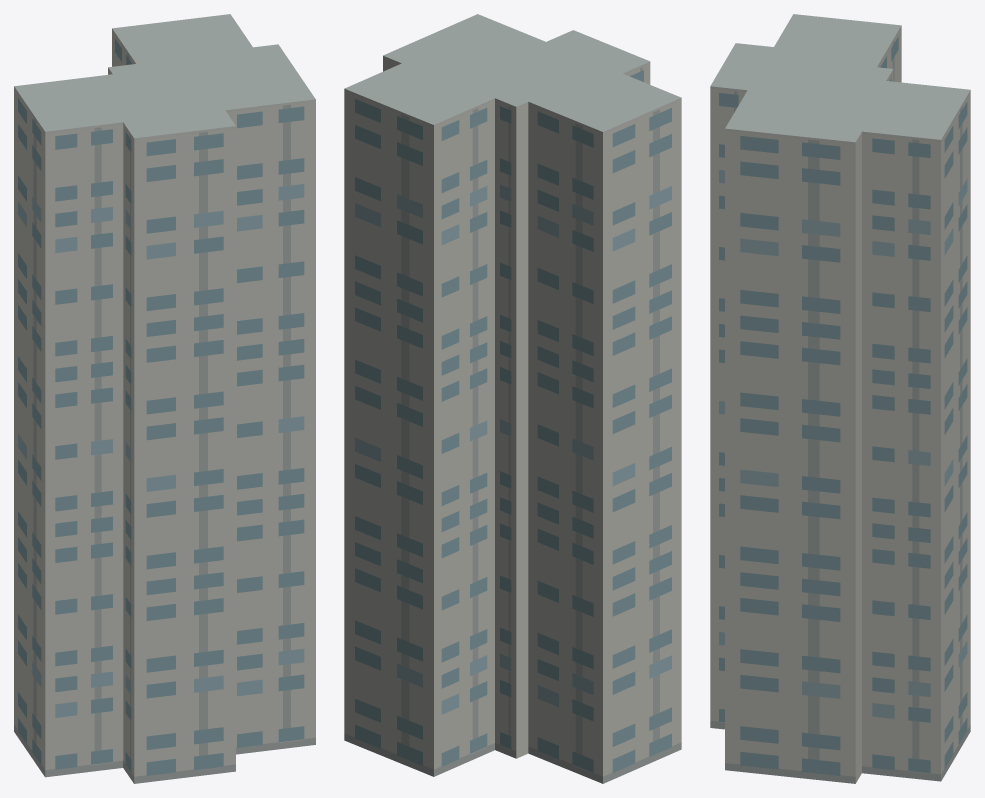
Rendered from residential-4bf3b7b1-fdad-4b17-90a7-de91da5e9cda.glb.
The picture shows the model from 3 angles, left to right: view 1: azimuth 30°, elevation 25°; view 2: azimuth 150°, elevation 25°; view 3: azimuth 270°, elevation 25°; orthographic projection.
Parts seen in each view (by area): view 1: residential-4bf3b7b1-fdad-4b17-90a7-de91da5e9cda.tmp; view 2: residential-4bf3b7b1-fdad-4b17-90a7-de91da5e9cda.tmp; view 3: residential-4bf3b7b1-fdad-4b17-90a7-de91da5e9cda.tmp.
Boxes of the visible parts, box(x1,y1,x2,y2) form: residential-4bf3b7b1-fdad-4b17-90a7-de91da5e9cda.tmp: box(14, 14, 315, 783); residential-4bf3b7b1-fdad-4b17-90a7-de91da5e9cda.tmp: box(344, 14, 681, 783); residential-4bf3b7b1-fdad-4b17-90a7-de91da5e9cda.tmp: box(710, 14, 970, 783).
Size of the model in its own units: 29.18 by 68 by 25.03.
